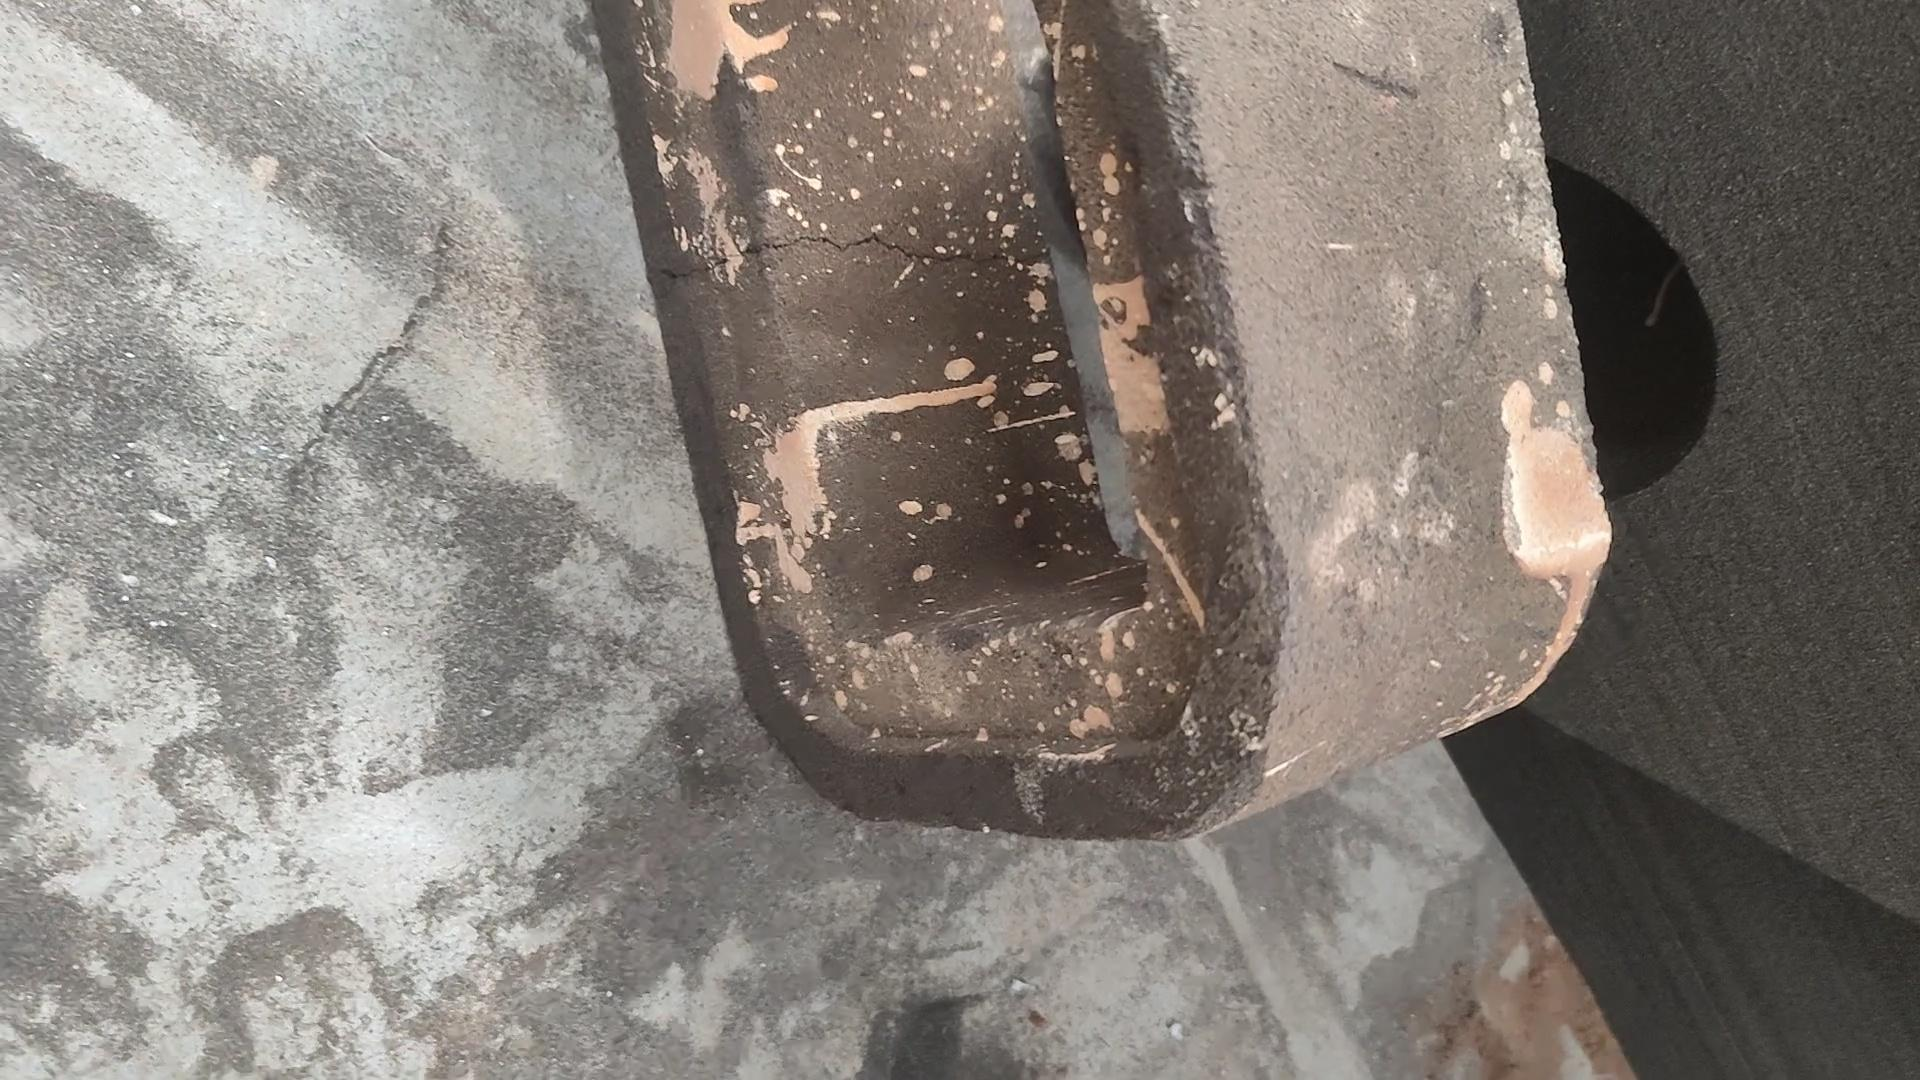pouring hole: (1447, 145, 1722, 498)
